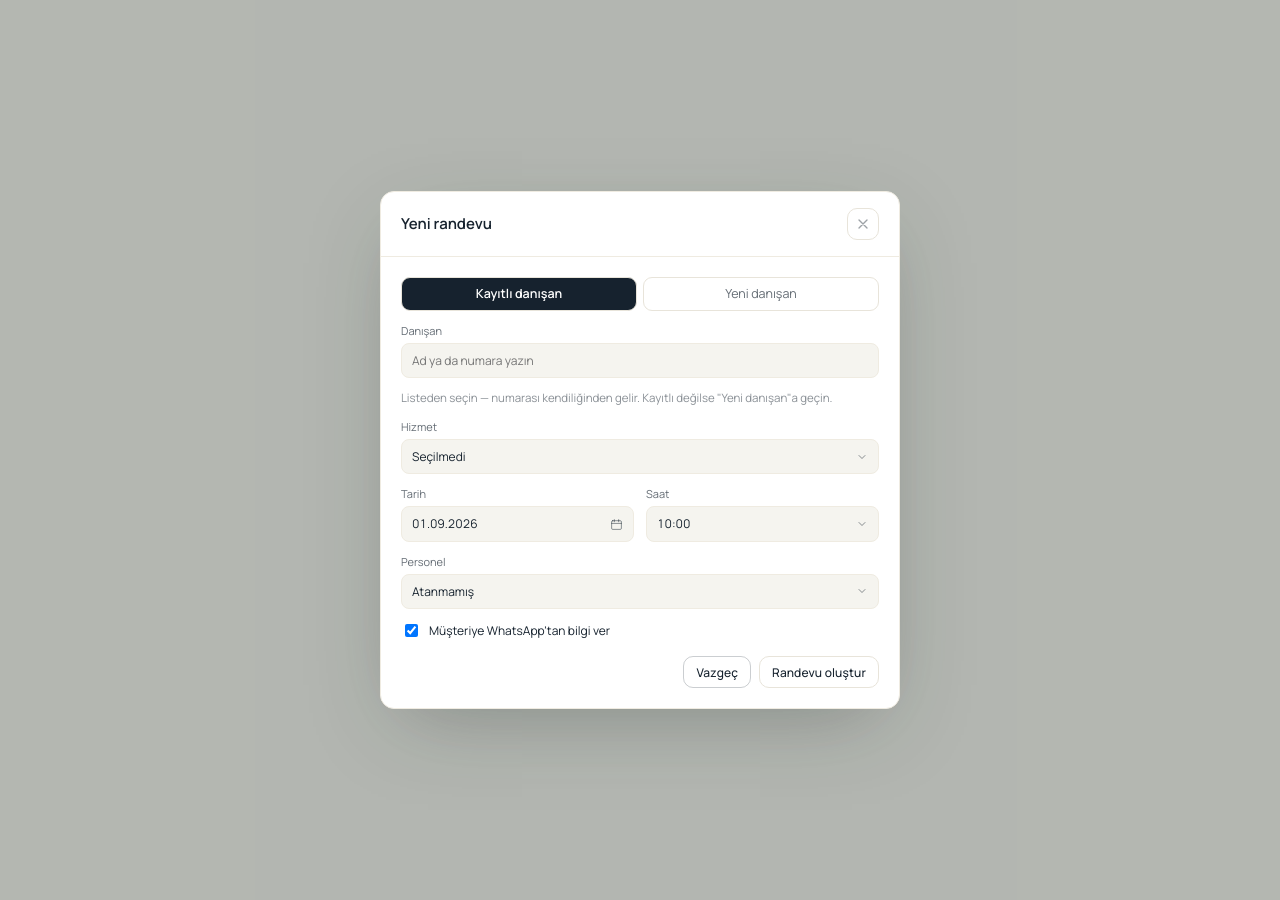
Test: AppointmentModal · kayıtlı danışan › seçilen danışanın numarası kendiliğinden geliyor
In the dropdown labelled "Danışan": coordinates (640, 361) [401,343,879,378], type "Ayşe"
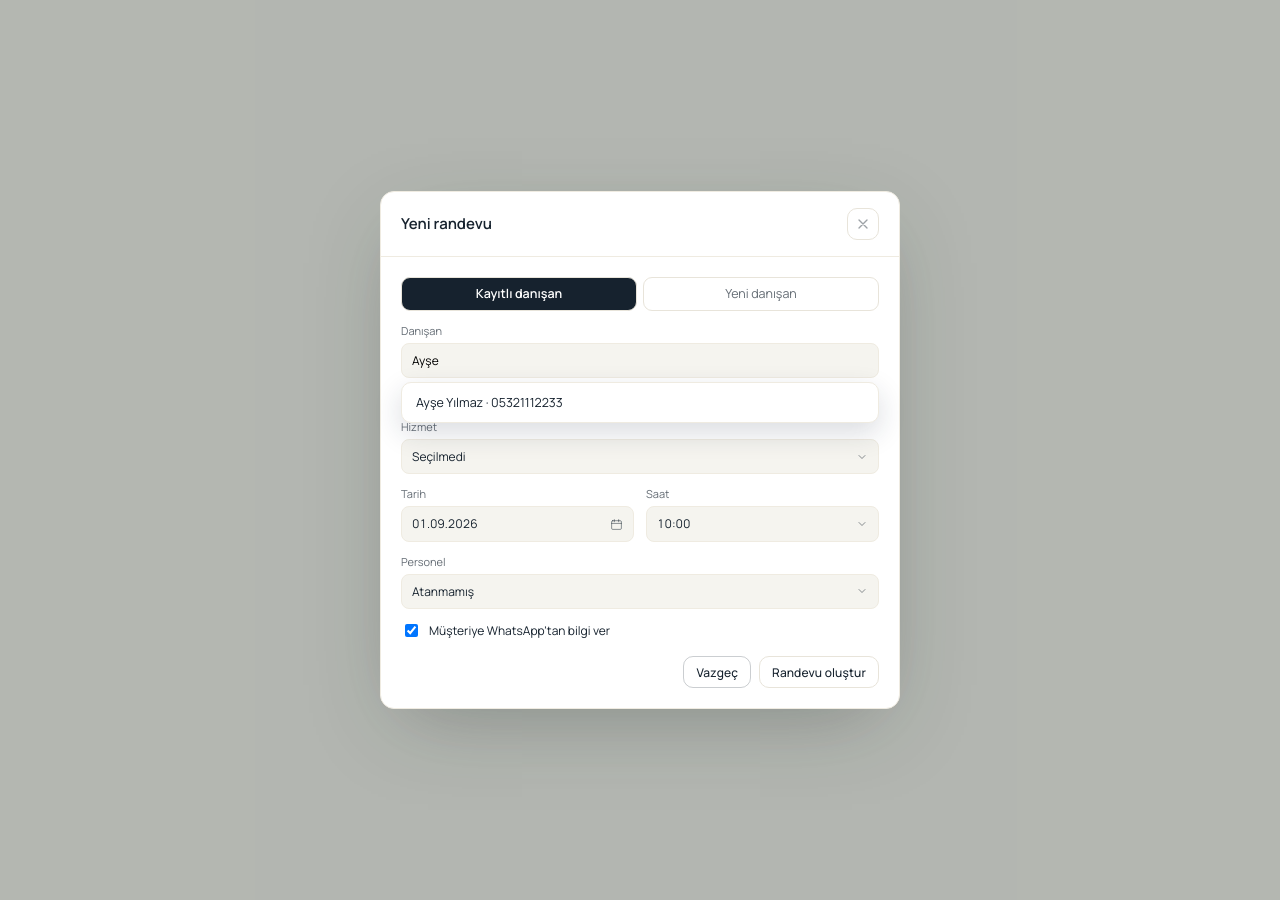
Press the mouse on the option "Ayşe Yılmaz · 05321112233": coordinates (489, 403) [416,394,563,411]
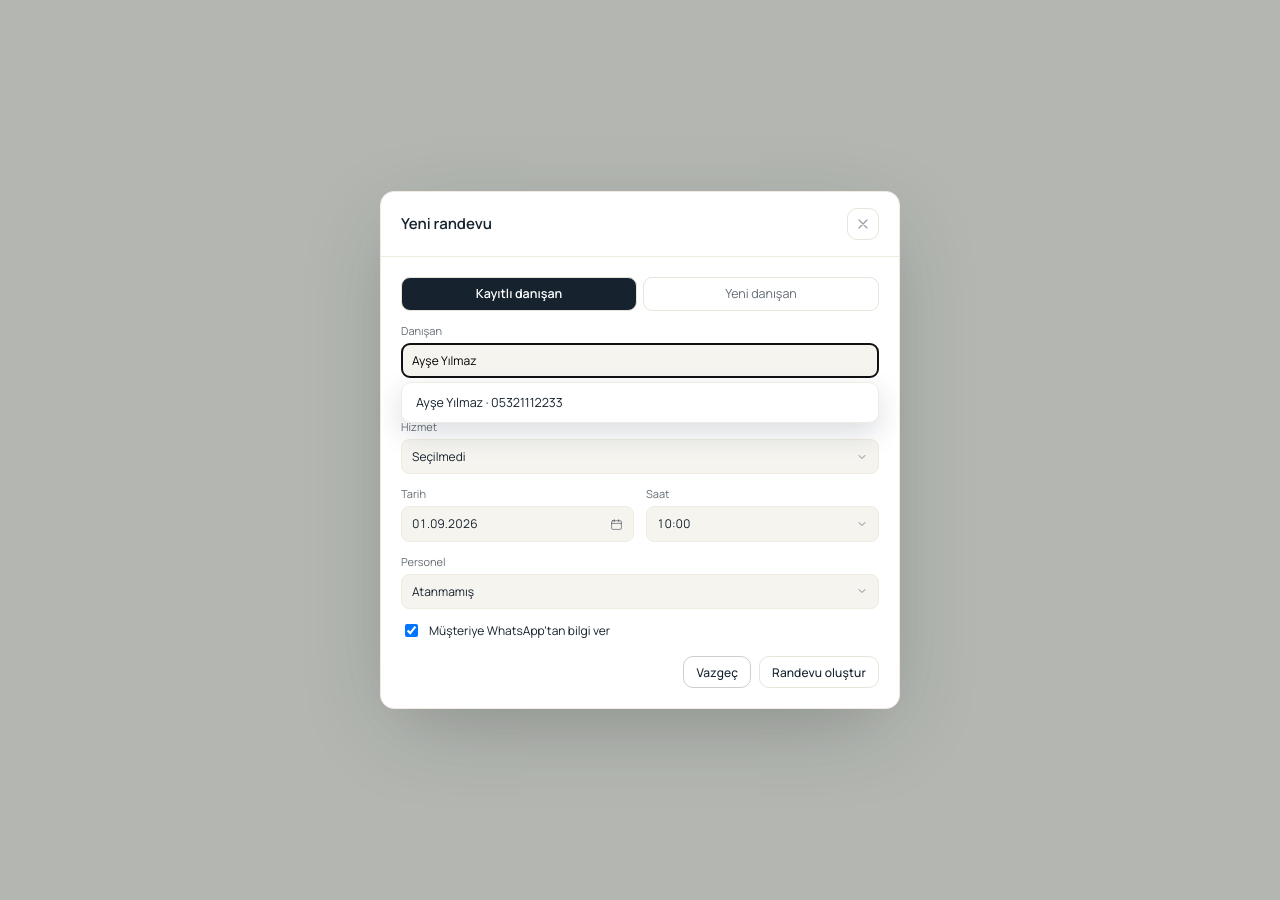
Expected: the text "05321112233" is shown, [448,390,522,405]
Result: the dropdown labelled "Danışan" holds "Ayşe Yılmaz" at [401,343,879,378]
